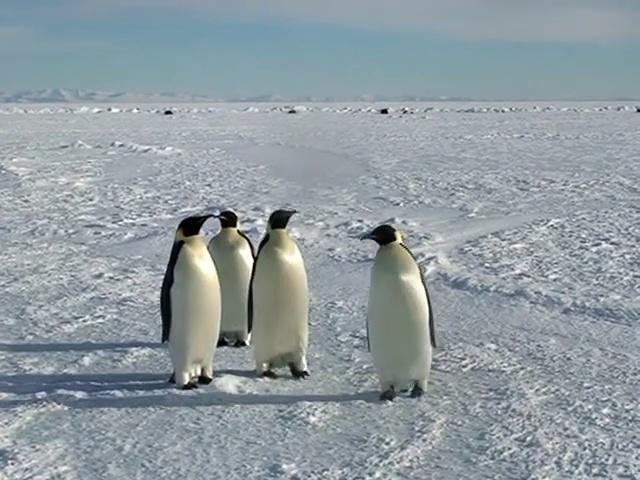animal: (362, 226, 436, 402)
